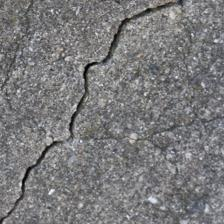Crack: (26, 49, 106, 180), (0, 59, 90, 126)
